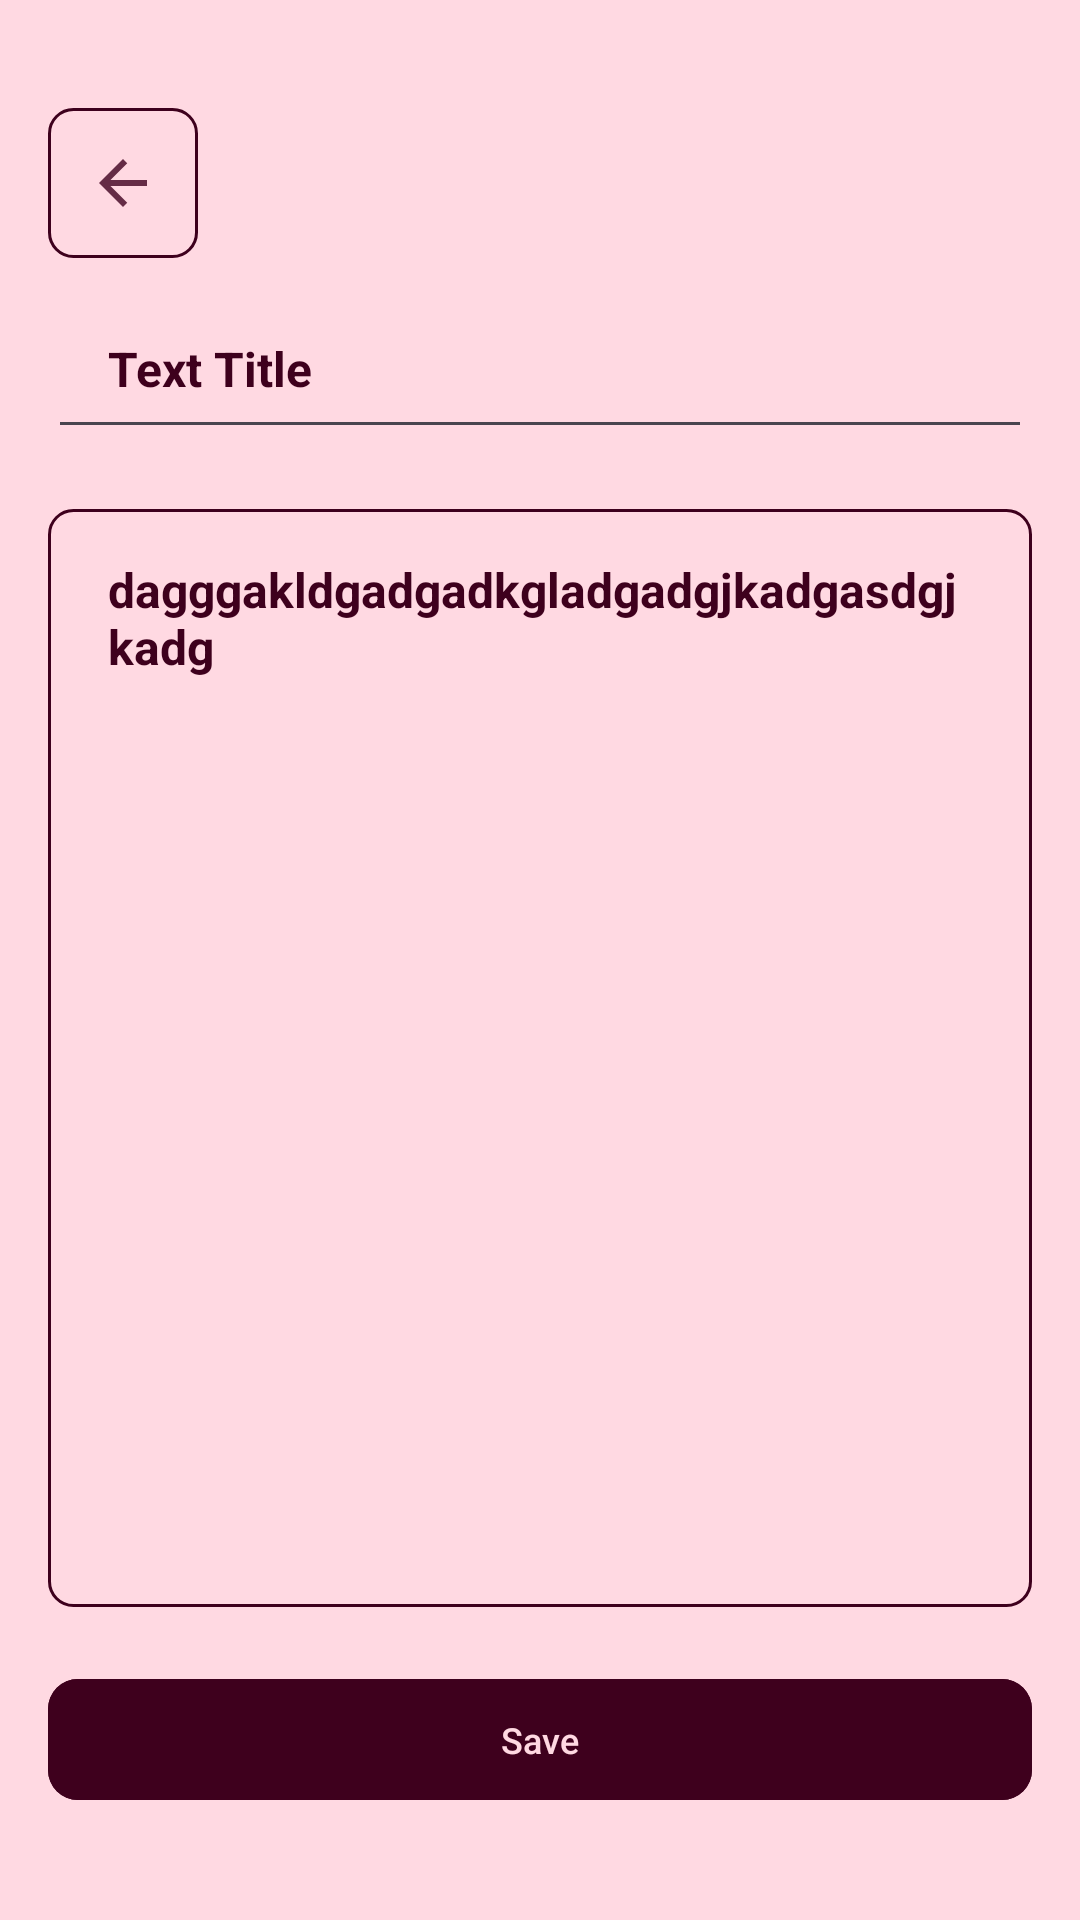

Point at icon controls on the screen. Image size 1080x1920, points as [x,y].
back button: [123,183]
